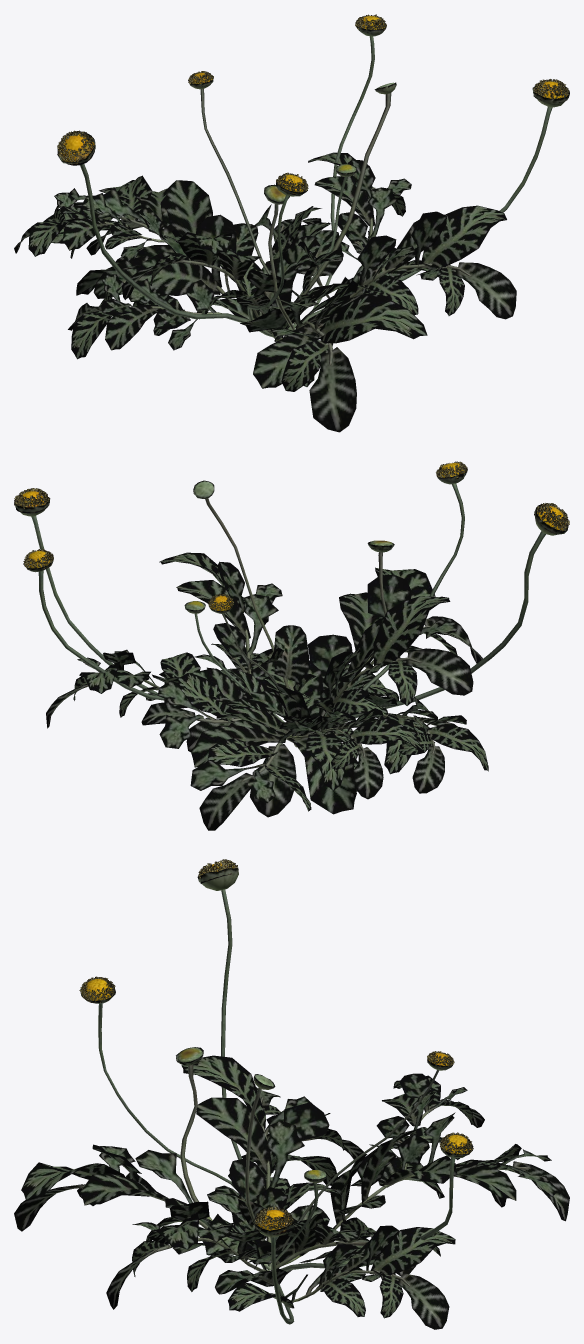
Rendered from banksia-petal.glb.
3 renders of one model, top to bottom at view 1: azimuth 30°, elevation 25°; view 2: azimuth 150°, elevation 25°; view 3: azimuth 270°, elevation 25°, orthographic. The views are drawn at different scales.
Parts seen in each view (by area): view 1: flower_stinkkruid_a_LOD0; view 2: flower_stinkkruid_a_LOD0; view 3: flower_stinkkruid_a_LOD0.
Boxes of the visible parts, left/top/right/bottom form: flower_stinkkruid_a_LOD0: left=14, top=14, right=569, bottom=432; flower_stinkkruid_a_LOD0: left=14, top=461, right=569, bottom=830; flower_stinkkruid_a_LOD0: left=14, top=859, right=569, bottom=1329.
Bounding box in the file's own units: 0.35 × 0.176 × 0.3005.
Materials: 1 (1 with a texture image).
